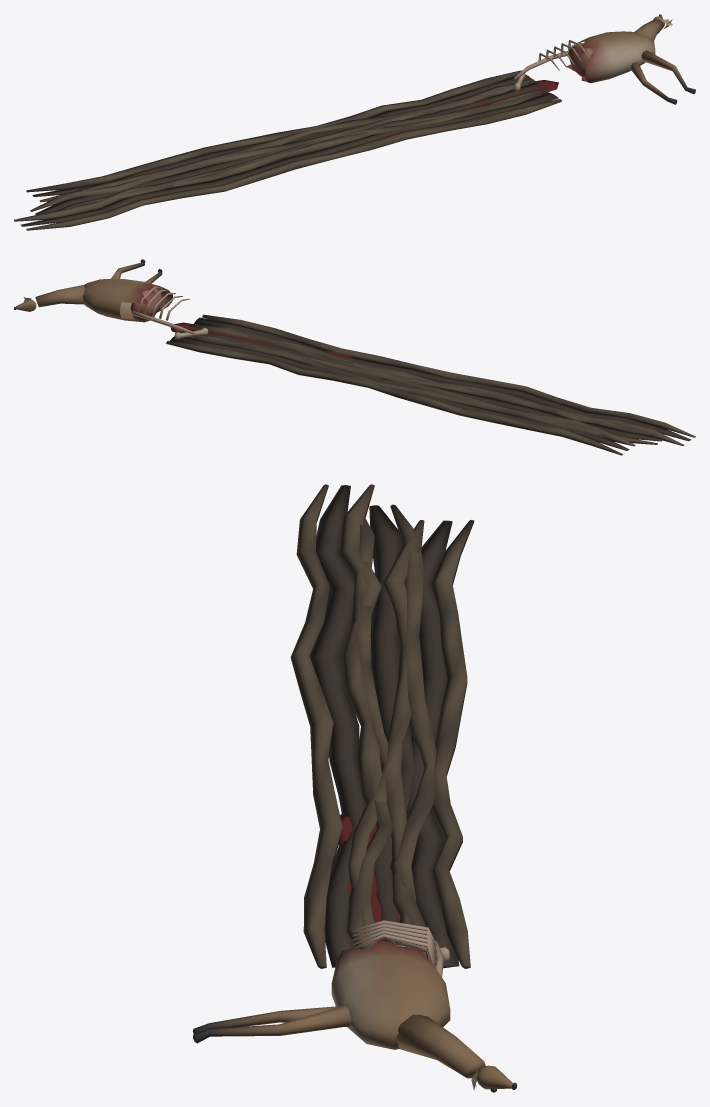
The model's file is camp_martax_drag_furrow.glb.
3 renders of one model, top to bottom at view 1: azimuth 30°, elevation 25°; view 2: azimuth 150°, elevation 25°; view 3: azimuth 270°, elevation 25°, orthographic. The views are drawn at different scales.
Parts seen in each view (by area): view 1: camp_martax_drag_furrow; view 2: camp_martax_drag_furrow; view 3: camp_martax_drag_furrow.
Boxes of the visible parts, bbox=[...] form: camp_martax_drag_furrow: bbox=[14, 14, 695, 230]; camp_martax_drag_furrow: bbox=[14, 259, 695, 455]; camp_martax_drag_furrow: bbox=[192, 484, 517, 1092].
Size of what is drawn, in the model's own units: 6.07 by 0.3271 by 1.34.
